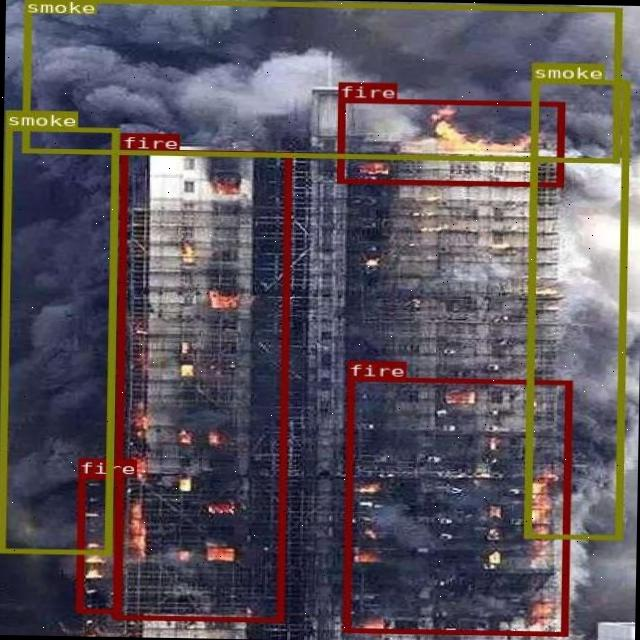fire: (112, 148, 289, 620), (342, 376, 570, 636), (336, 97, 562, 185), (75, 474, 121, 612)
smoke: (20, 0, 620, 161), (0, 125, 116, 553), (523, 78, 629, 540)
